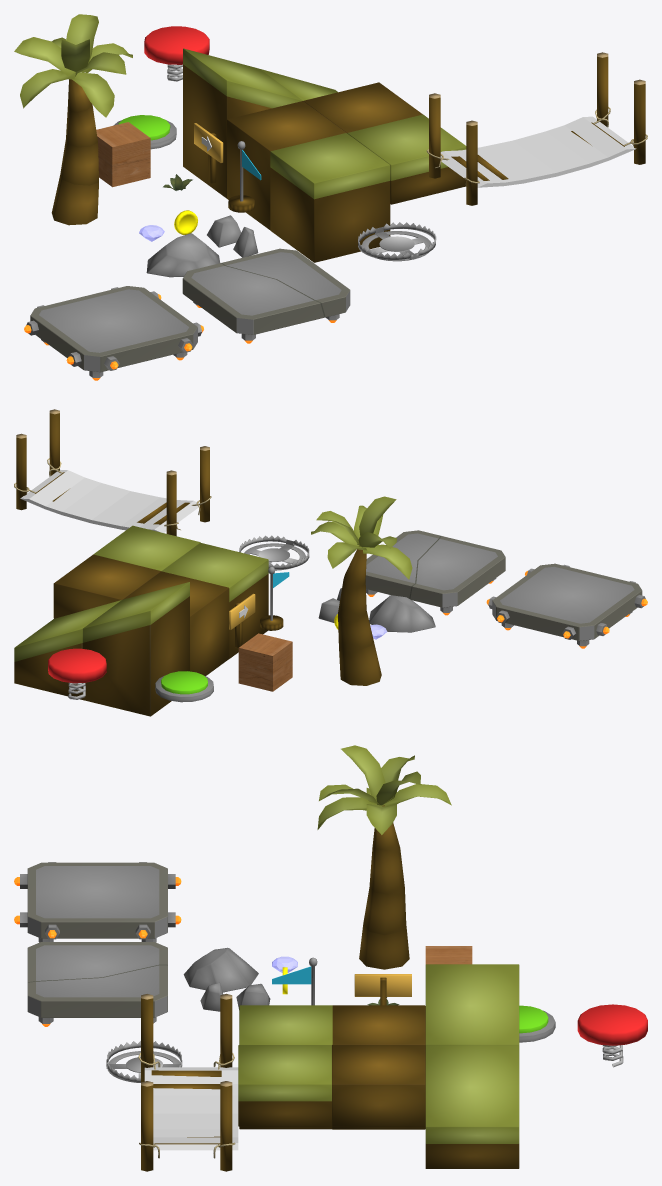
Rendered from blocks.gltf.
The picture shows the model from 3 angles, top to bottom: view 1: azimuth 30°, elevation 25°; view 2: azimuth 150°, elevation 25°; view 3: azimuth 270°, elevation 25°; orthographic projection. The views are drawn at different scales.
Visible parts, largest first — view 1: cube-terrain, PlatformMoving, PlatformFall, cube-terrain-small-ramp.001, Colision, cube-terrain-ground, Leafs, cube-terrain-down, Coconut-three, Trunks, cube-terrain-ground-small, Box (+8 smaller); view 2: cube-terrain-small-ramp.001, PlatformMoving, PlatformFall, Colision, cube-terrain, cube-terrain-ground, Coconut-three, cube-terrain-ground-small, cube-terrain-small-ramp.002, Leafs, Trunks, cube-terrain-down (+8 smaller); view 3: cube-terrain-small-ramp.002, PlatformMoving, PlatformFall, cube-terrain-small-ramp.001, cube-terrain-down, cube-terrain-ground-small, Colision, Coconut-three, Leafs, Trunks, cube-terrain-ground, cube-terrain (+7 smaller).
Part boxes in pixels (bbox=[...]): cube-terrain: bbox=[270, 133, 390, 262]; PlatformMoving: bbox=[26, 286, 201, 377]; PlatformFall: bbox=[182, 248, 350, 340]; cube-terrain-small-ramp.001: bbox=[183, 48, 302, 198]; Colision: bbox=[440, 116, 636, 187]; cube-terrain-ground: bbox=[227, 101, 346, 229]; Leafs: bbox=[14, 14, 132, 117]; cube-terrain-down: bbox=[347, 114, 466, 204]; Coconut-three: bbox=[51, 79, 98, 225]; Trunks: bbox=[429, 52, 645, 205]; cube-terrain-ground-small: bbox=[303, 82, 422, 132]; Box: bbox=[96, 122, 150, 187]; cube-terrain-small-ramp.001: bbox=[82, 582, 189, 716]; PlatformMoving: bbox=[488, 563, 645, 646]; PlatformFall: bbox=[365, 530, 505, 612]; Colision: bbox=[20, 469, 199, 532]; cube-terrain: bbox=[162, 542, 268, 658]; cube-terrain-ground: bbox=[123, 571, 229, 675]; Coconut-three: bbox=[338, 546, 381, 685]; cube-terrain-ground-small: bbox=[53, 554, 160, 618]; cube-terrain-small-ramp.002: bbox=[14, 600, 121, 699]; Leafs: bbox=[311, 496, 412, 579]; Trunks: bbox=[16, 409, 209, 536]; cube-terrain-down: bbox=[93, 525, 200, 571]; cube-terrain-small-ramp.002: bbox=[425, 1045, 519, 1168]; PlatformMoving: bbox=[20, 862, 175, 942]; PlatformFall: bbox=[27, 942, 167, 1023]; cube-terrain-small-ramp.001: bbox=[425, 964, 519, 1045]; cube-terrain-down: bbox=[238, 1045, 331, 1126]; cube-terrain-ground-small: bbox=[332, 1045, 425, 1126]; Colision: bbox=[144, 1067, 238, 1150]; Coconut-three: bbox=[359, 805, 409, 969]; Leafs: bbox=[317, 745, 451, 834]; Trunks: bbox=[141, 993, 232, 1171]; cube-terrain-ground: bbox=[332, 1005, 425, 1129]; cube-terrain: bbox=[239, 1005, 332, 1129].
Size of the model in its own units: 16.38 by 5.76 by 13.54.
Materials: 9 (5 with a texture image).
